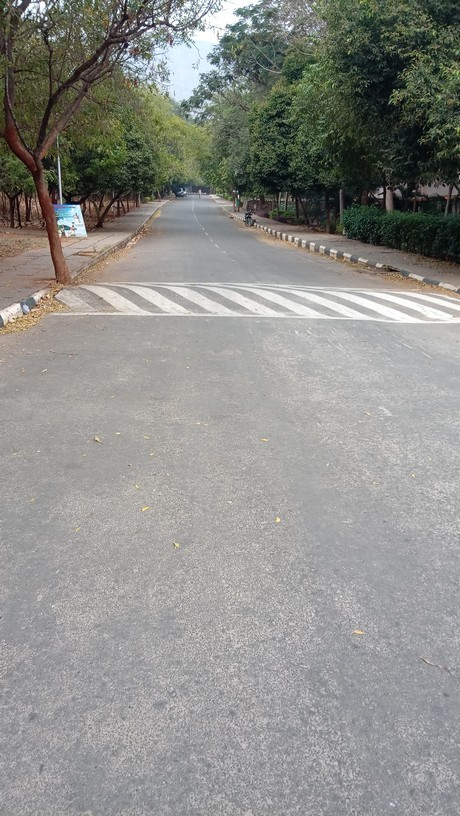bump: (42, 282, 460, 321)
